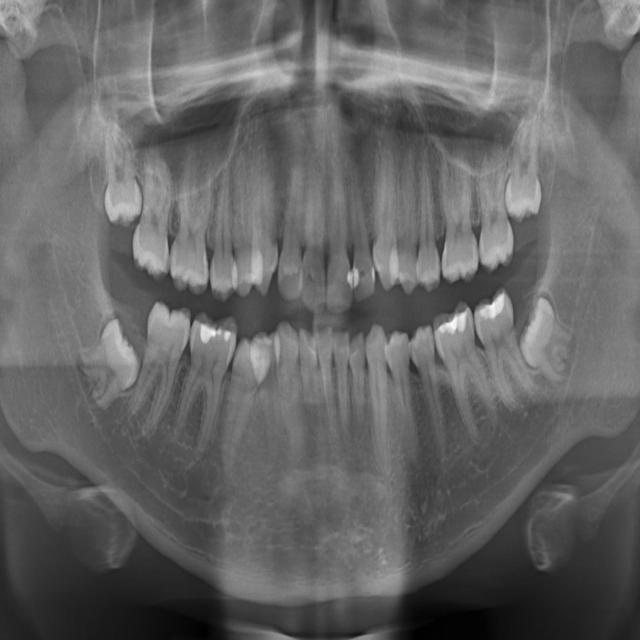CompositeResinRestoration: (437, 305, 469, 345), (479, 290, 510, 322), (199, 321, 231, 349), (341, 261, 353, 291), (352, 263, 362, 291)
